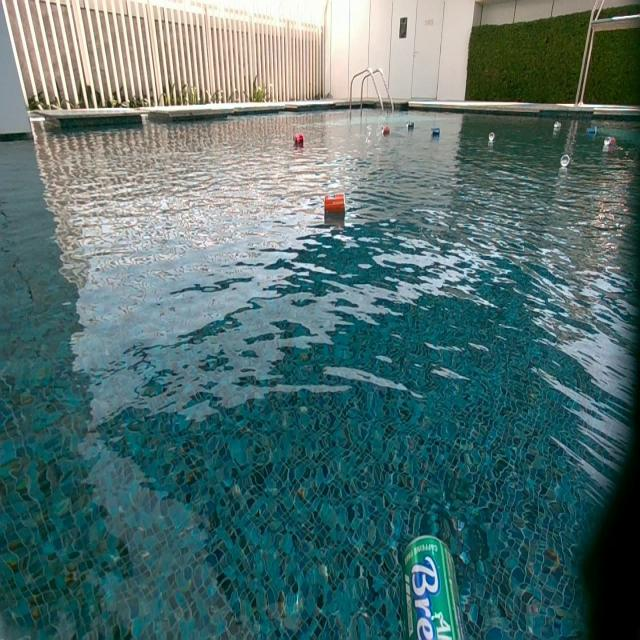Cans: (402, 535, 463, 640), (324, 195, 344, 215), (603, 137, 616, 149), (585, 126, 597, 137), (293, 134, 303, 146), (430, 127, 440, 139), (560, 153, 570, 164), (382, 126, 391, 138), (553, 120, 562, 130), (408, 120, 415, 130), (488, 132, 495, 142)
